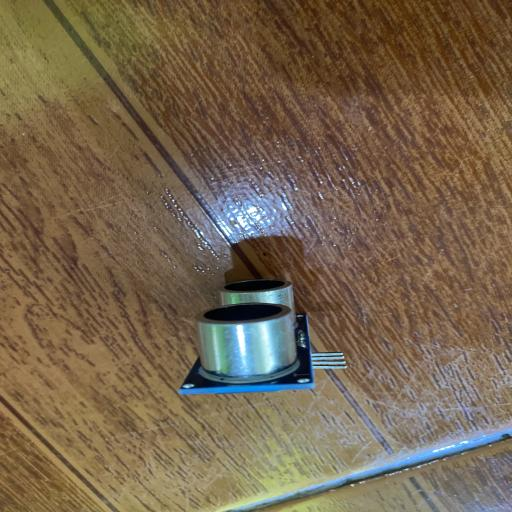Ultrasonic Sensor: (178, 276, 348, 394)
